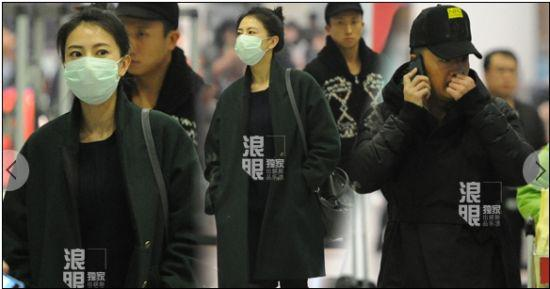NONE: (115, 24, 162, 74), (428, 50, 473, 95), (333, 16, 363, 45)
OK: (66, 42, 125, 101), (233, 25, 269, 61)
